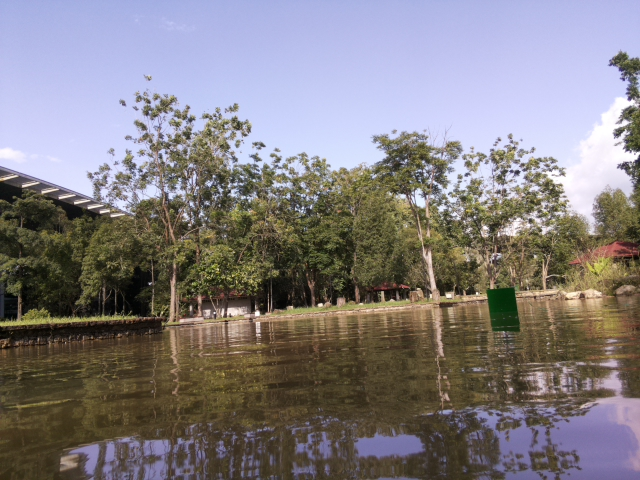obstacle: (486, 286, 520, 314)
